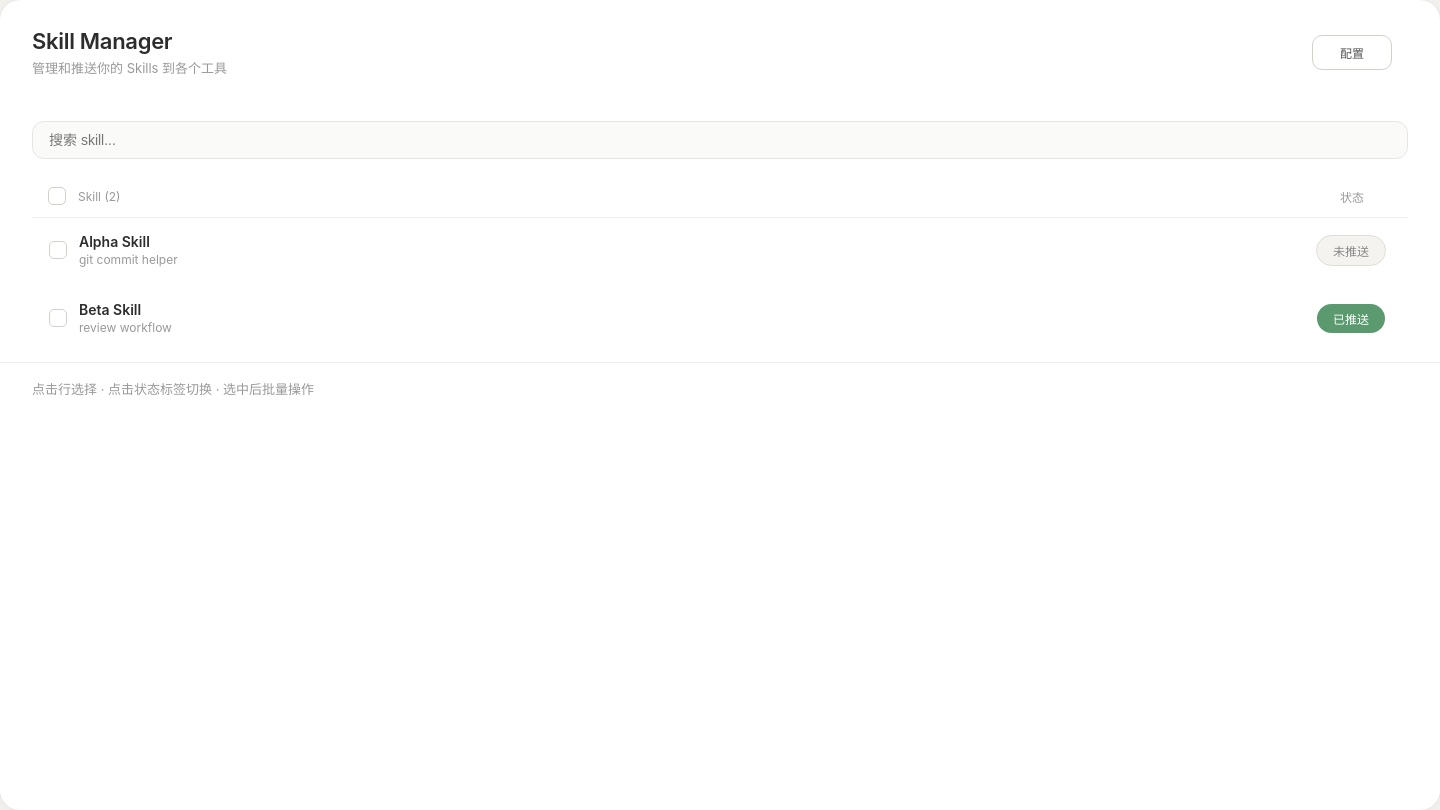
ManagePage V0.4 Interaction (Integration) › IT-MANAGE-01: 搜索应按名称/描述过滤列表
Type "commit" into the field with placeholder "搜索 skill..." at x=720, y=140, box [32, 121, 1408, 159]
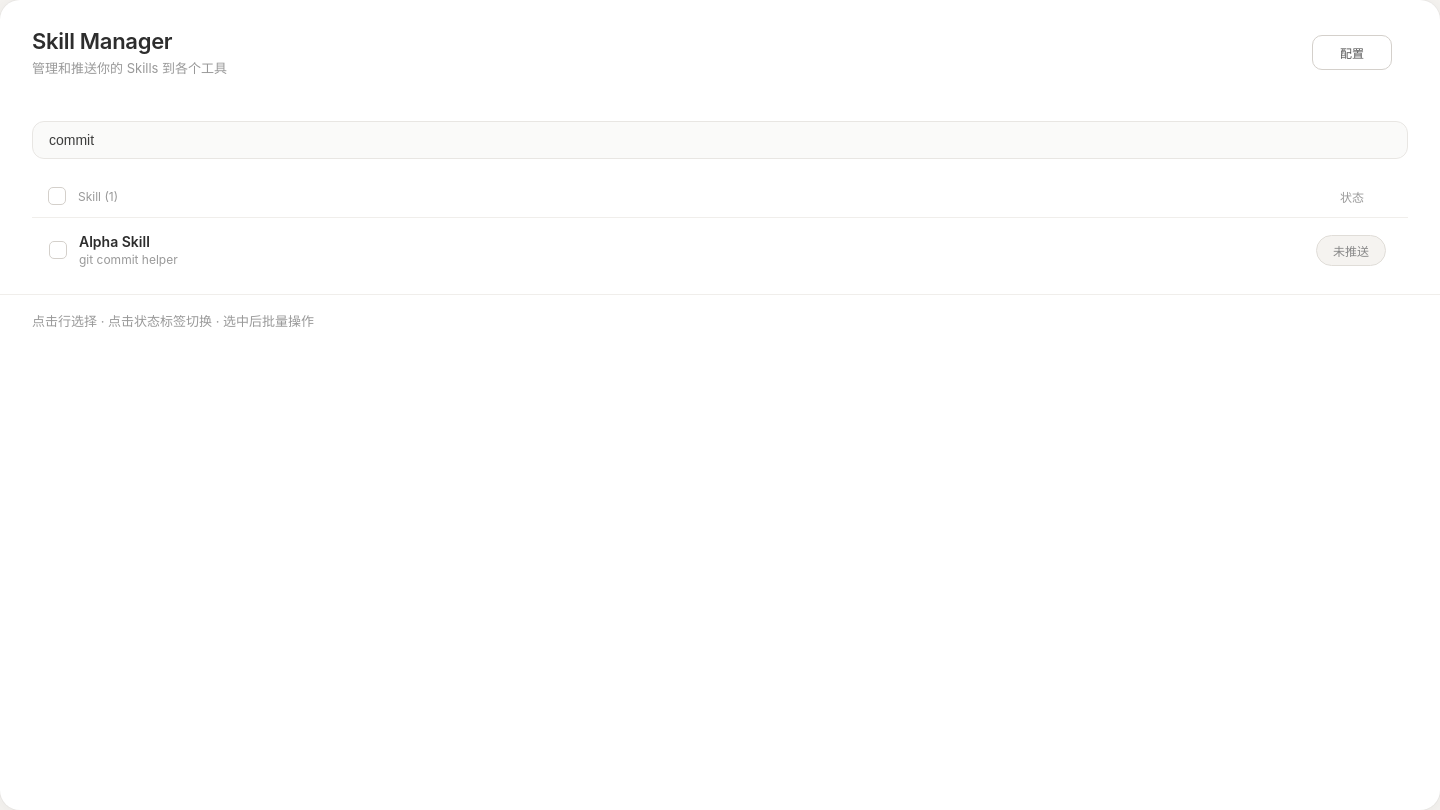
Check: the text "Alpha Skill" is shown, box [79, 233, 150, 250]
Check: the text "Beta Skill" is gone
